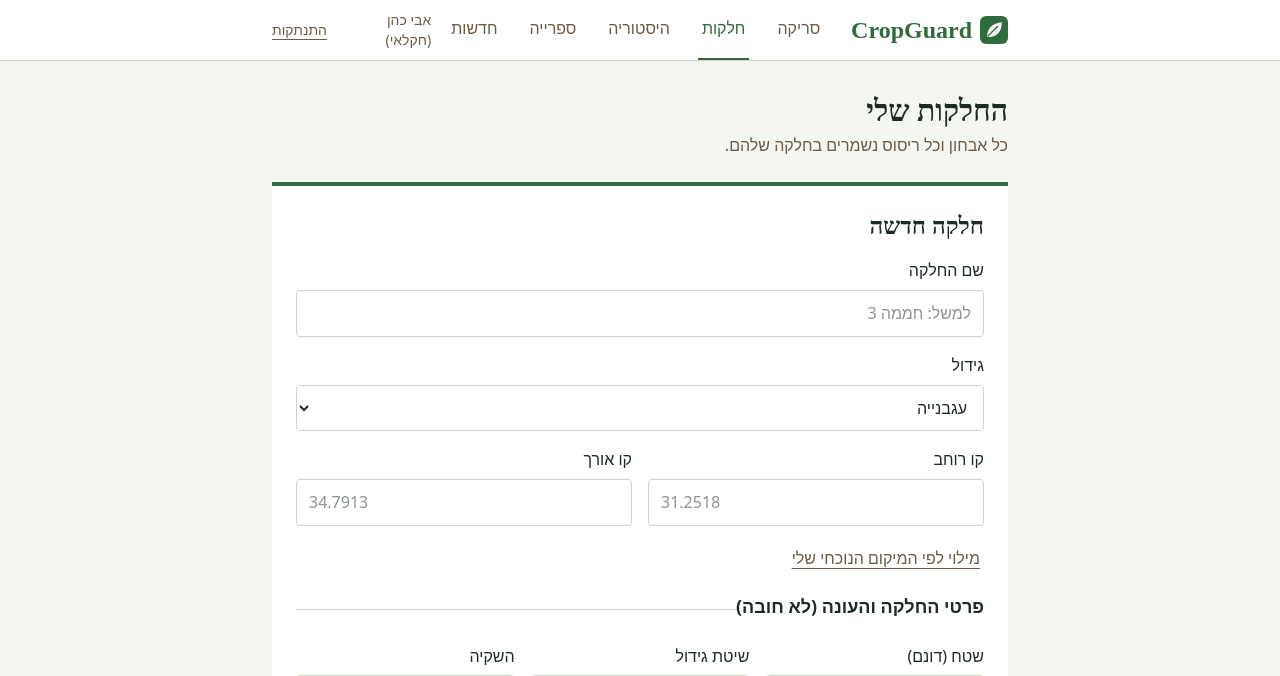
Test: account page › is reachable from the header
Click the link "אבי כהן (חקלאי)".
click(408, 29)  # box 386,10 -> 431,49
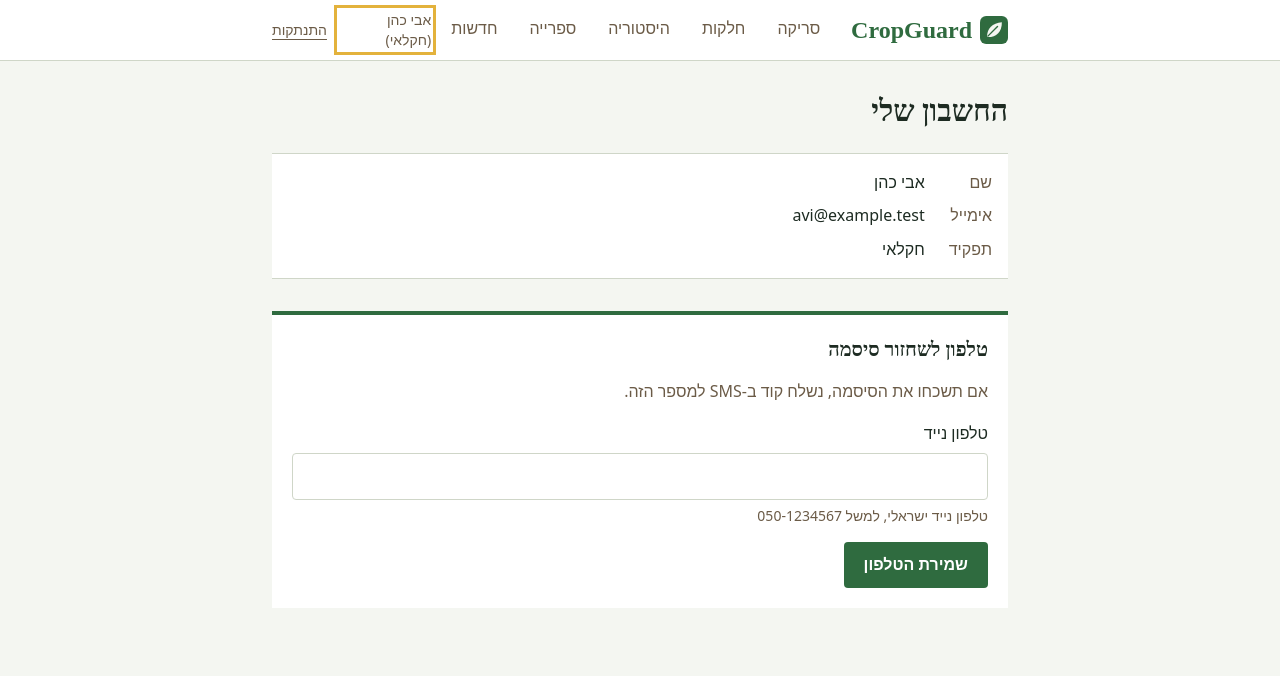
Now the heading "החשבון שלי" is shown, box 871,94 -> 1008,127
